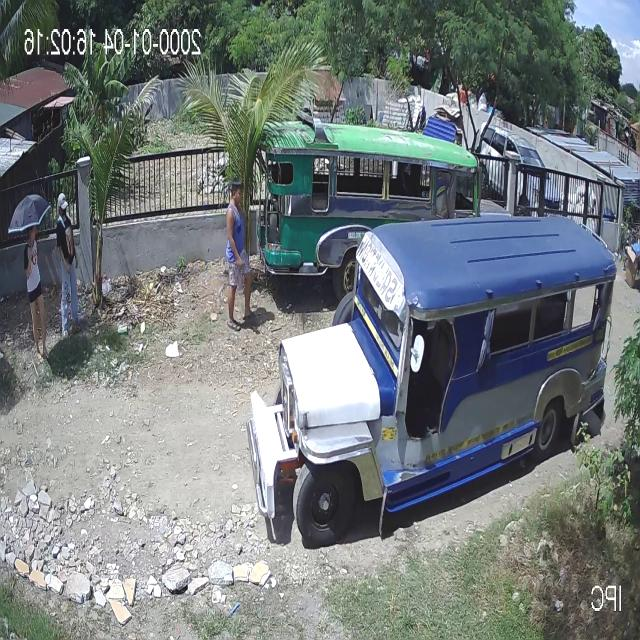standing: (52, 194, 84, 342)
walking: (226, 173, 252, 332), (24, 221, 51, 366)
